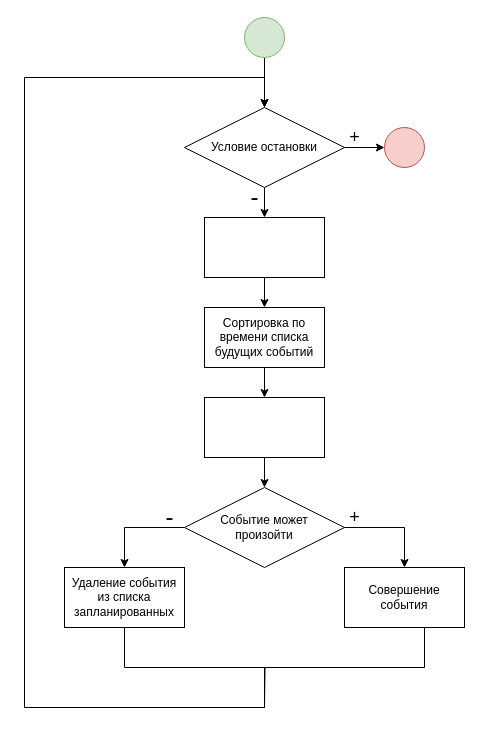
Image size: 482x733. Some labels were removed from this diagram. Each missing label, with the centre of its shape:
"Генерация будущих событий" goes at [264,247].
"Переход в ближающую временную точку" goes at [264,427].
